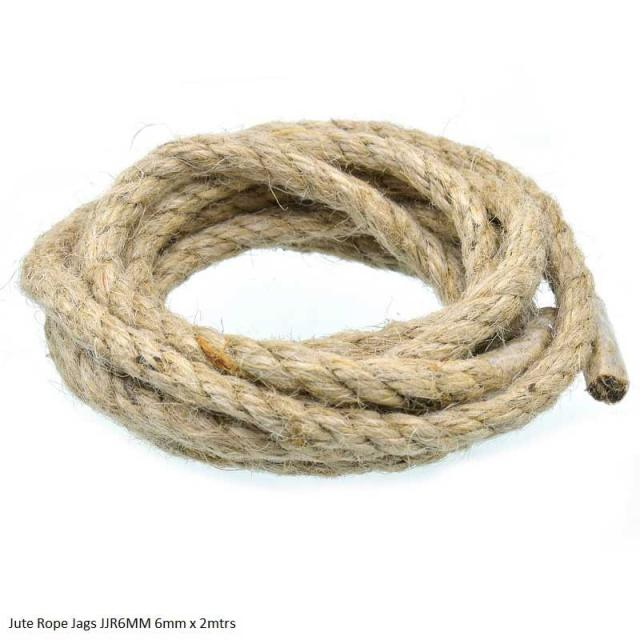Rope: (18, 108, 640, 476)
